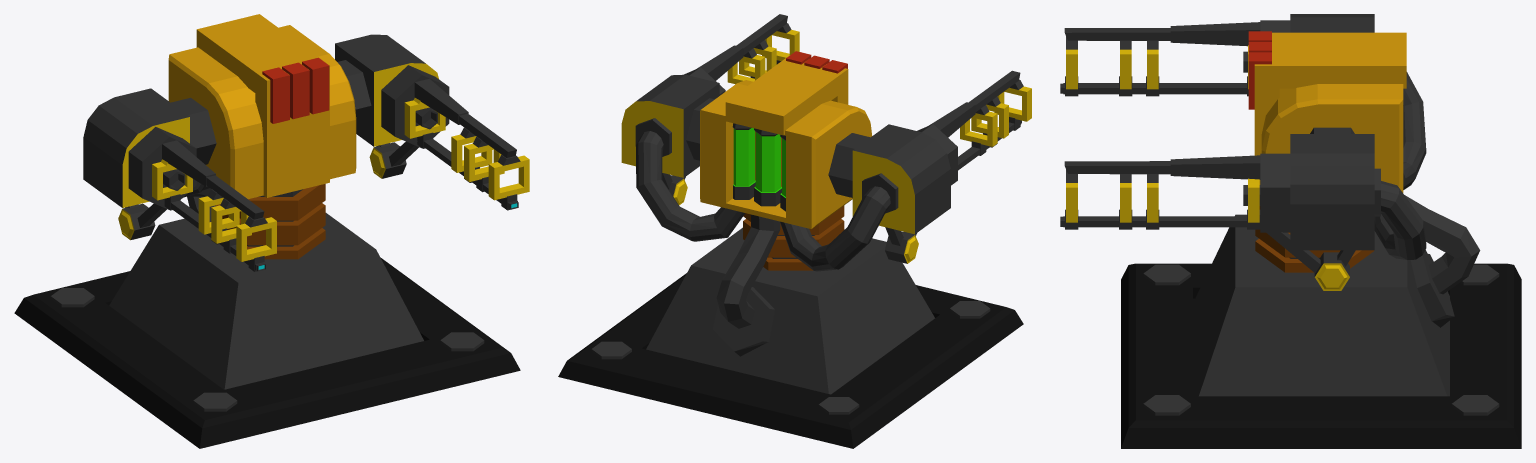
File: Plasma Turret.glb
3 views of the same model, side by side, from view 1: azimuth 30°, elevation 25°; view 2: azimuth 150°, elevation 25°; view 3: azimuth 270°, elevation 25° (orthographic). The views are drawn at different scales.
Visible parts, largest first — view 1: BasePlasmaTurret1; view 2: BasePlasmaTurret1; view 3: BasePlasmaTurret1.
Part boxes in pixels (bbox=[...]): BasePlasmaTurret1: bbox=[14, 14, 529, 448]; BasePlasmaTurret1: bbox=[558, 14, 1031, 448]; BasePlasmaTurret1: bbox=[1060, 14, 1521, 448].
Size of the model in its own units: 3.24 by 2.84 by 3.74.
Materials: 1 (1 with a texture image).
